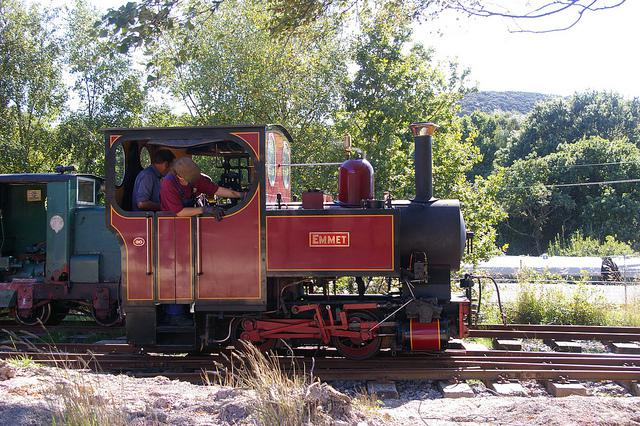Train: (1, 117, 479, 370)
